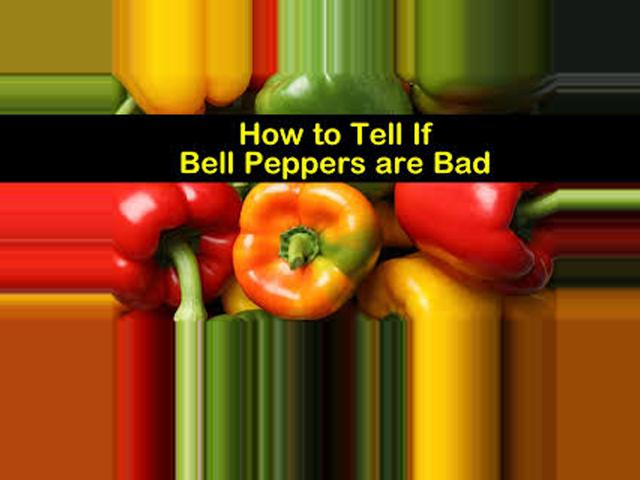bell_pepper: (116, 172, 246, 320)
